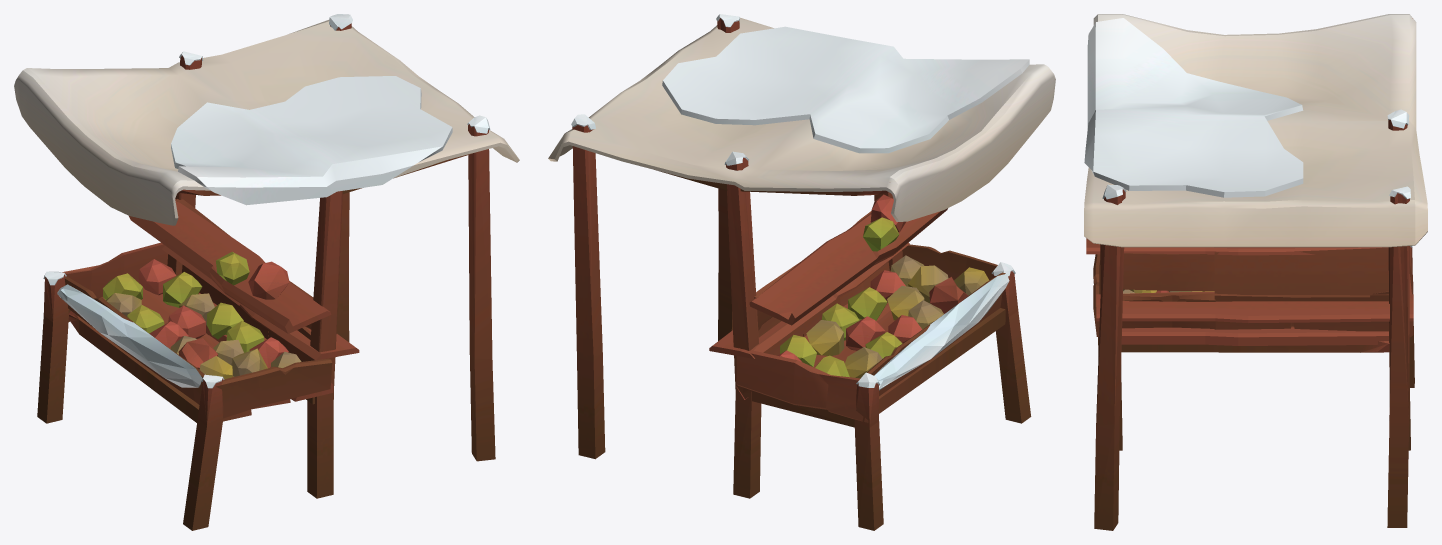
3 views of the same model, side by side, from view 1: azimuth 30°, elevation 25°; view 2: azimuth 150°, elevation 25°; view 3: azimuth 270°, elevation 25° (orthographic).
Parts seen in each view (by area): view 1: SnowyMarketStand; view 2: SnowyMarketStand; view 3: SnowyMarketStand.
Part boxes in pixels (left/top/right/bottom): SnowyMarketStand: left=14, top=14, right=519, bottom=530; SnowyMarketStand: left=548, top=14, right=1055, bottom=530; SnowyMarketStand: left=1084, top=14, right=1427, bottom=530.
Bounding box in the file's own units: 3.44 × 3.37 × 2.9.
Materials: 1 (1 with a texture image).
